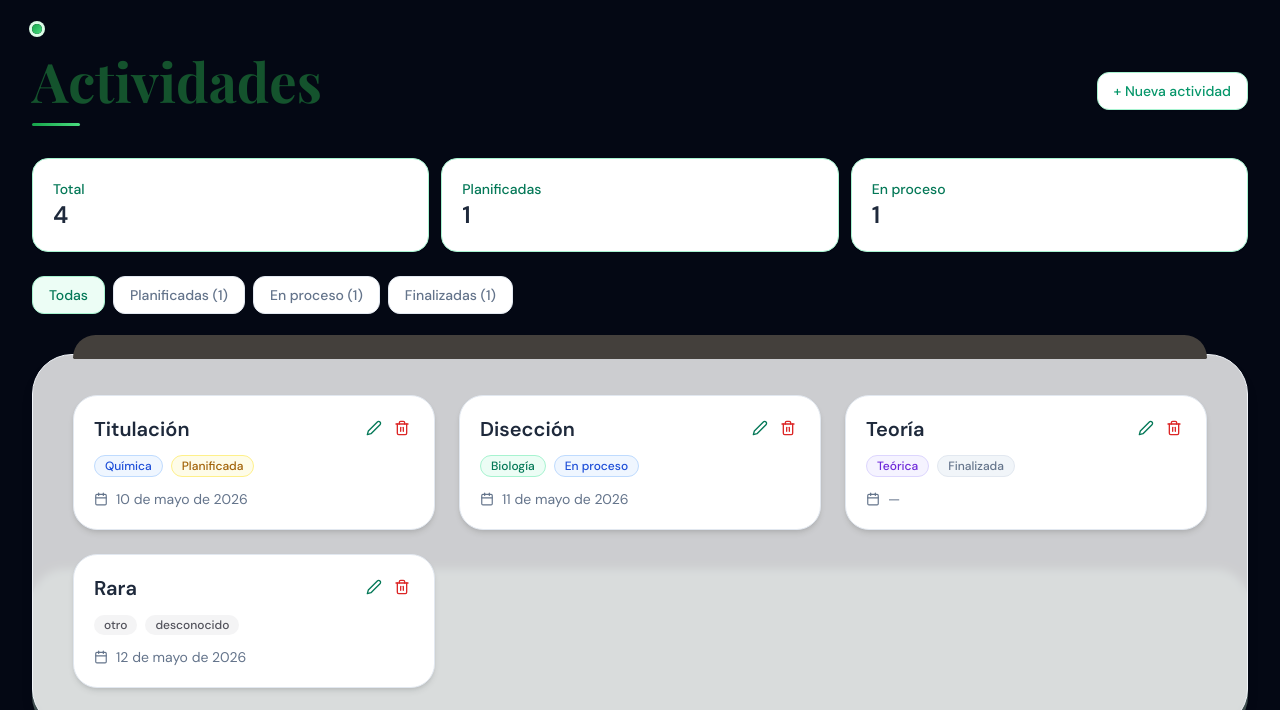
Test case: Actividades Page › usa un mensaje genérico si el borrado falla sin detalle
Click the button titled "Eliminar actividad" in the row of "Titulación" at (402, 428), box [390, 416, 414, 440]
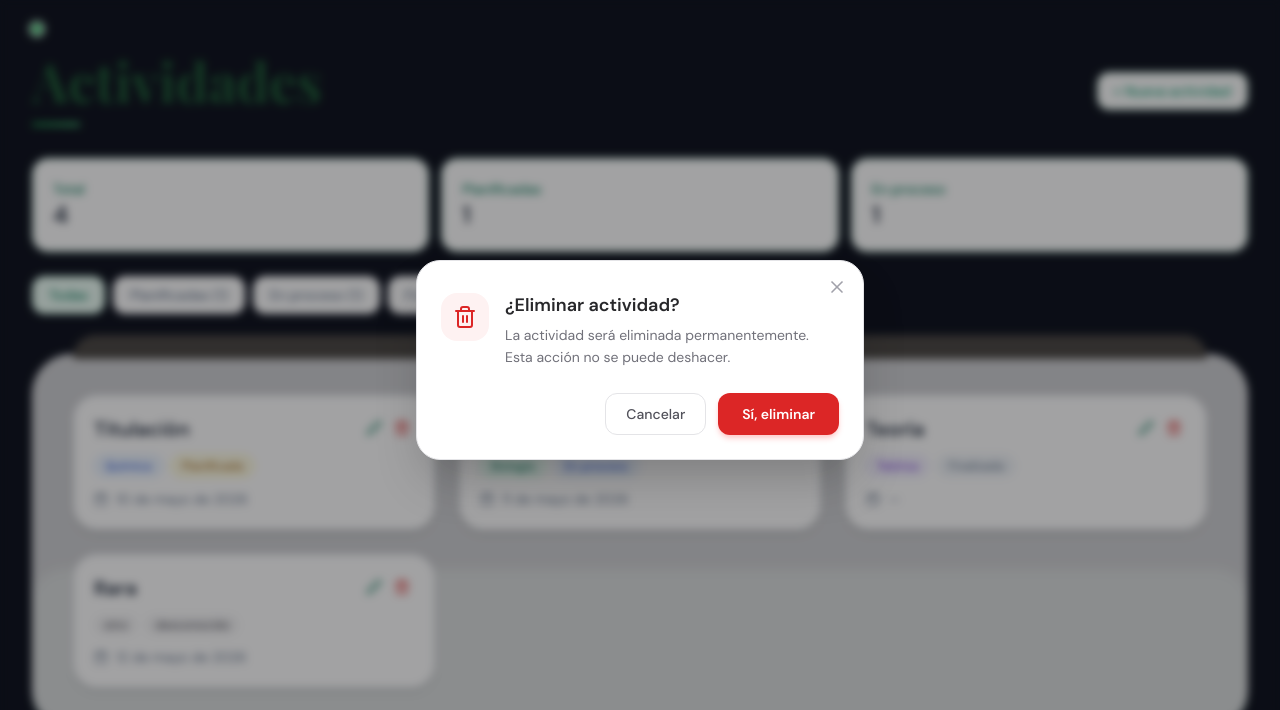
Click the button "Sí, eliminar" at (779, 414), box [718, 393, 839, 435]
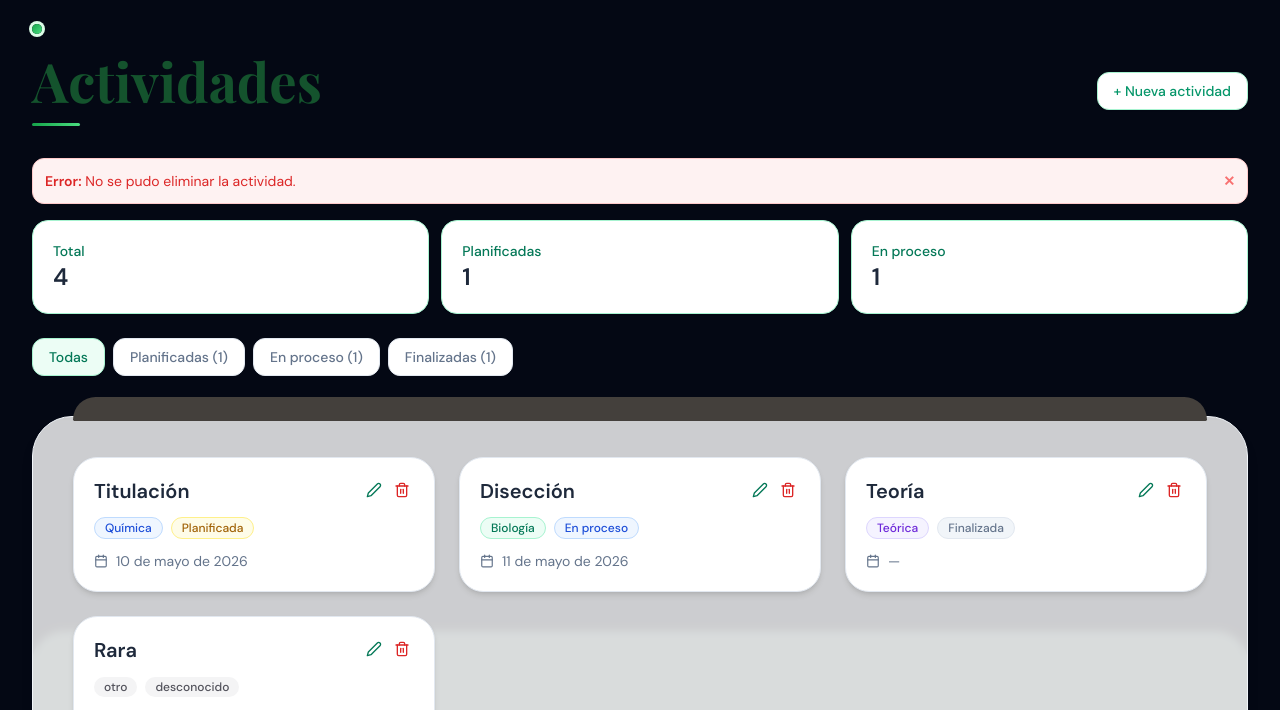
Expected: the text "No se pudo eliminar la actividad." is shown, [85, 172, 296, 190]
